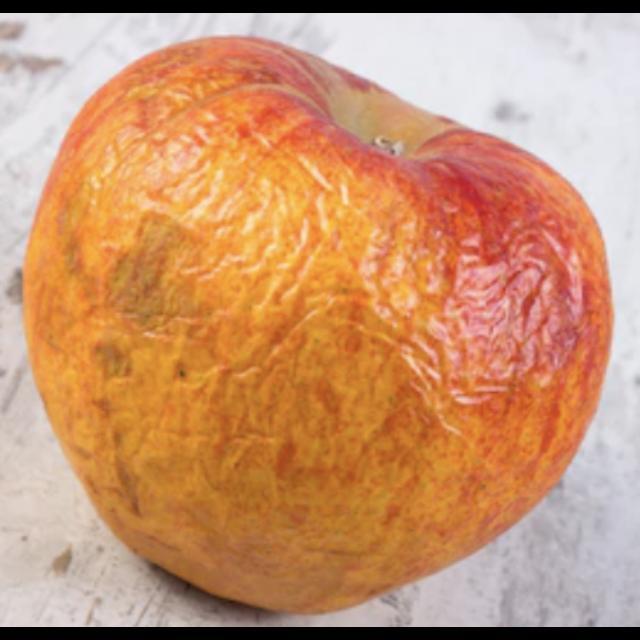Apel Tidak Segar: (34, 25, 620, 601)
